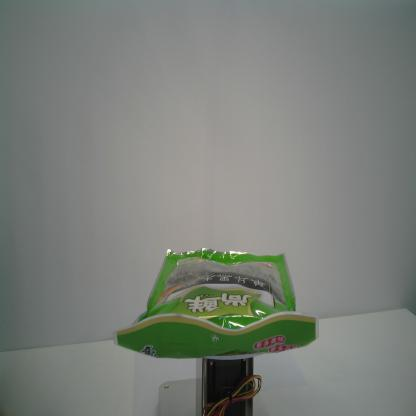Dried Food: (112, 245, 320, 360)
